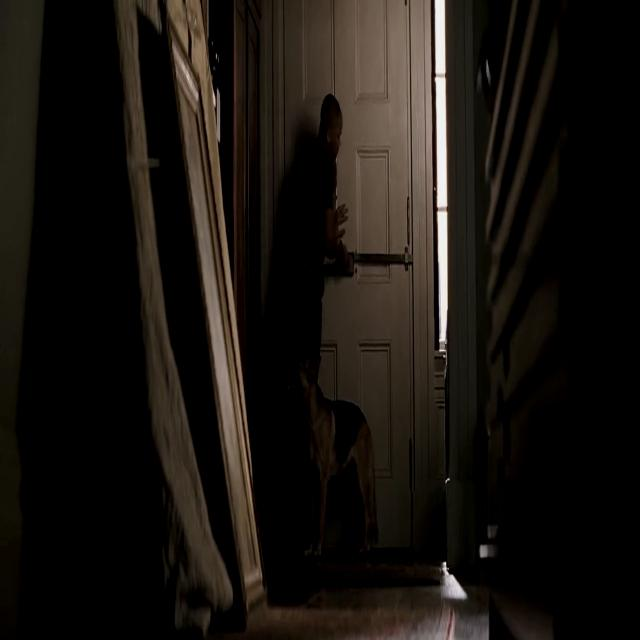Dog: (277, 350, 395, 612)
